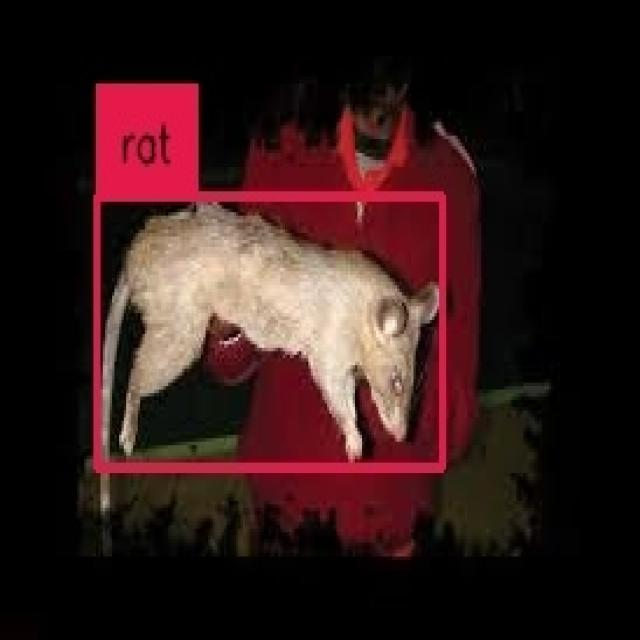rat: (98, 195, 442, 466)
